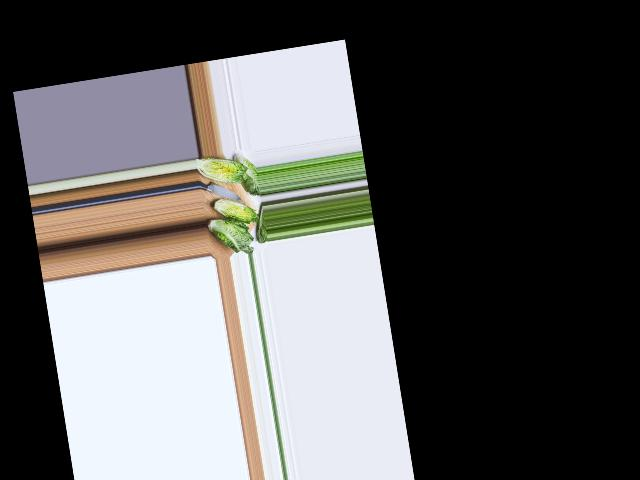lettuce: (233, 152, 258, 197)
